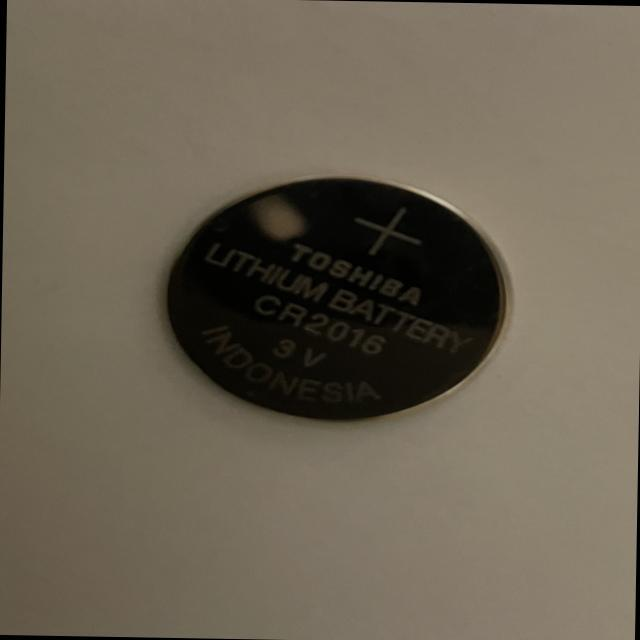COIN: (160, 170, 514, 426)
